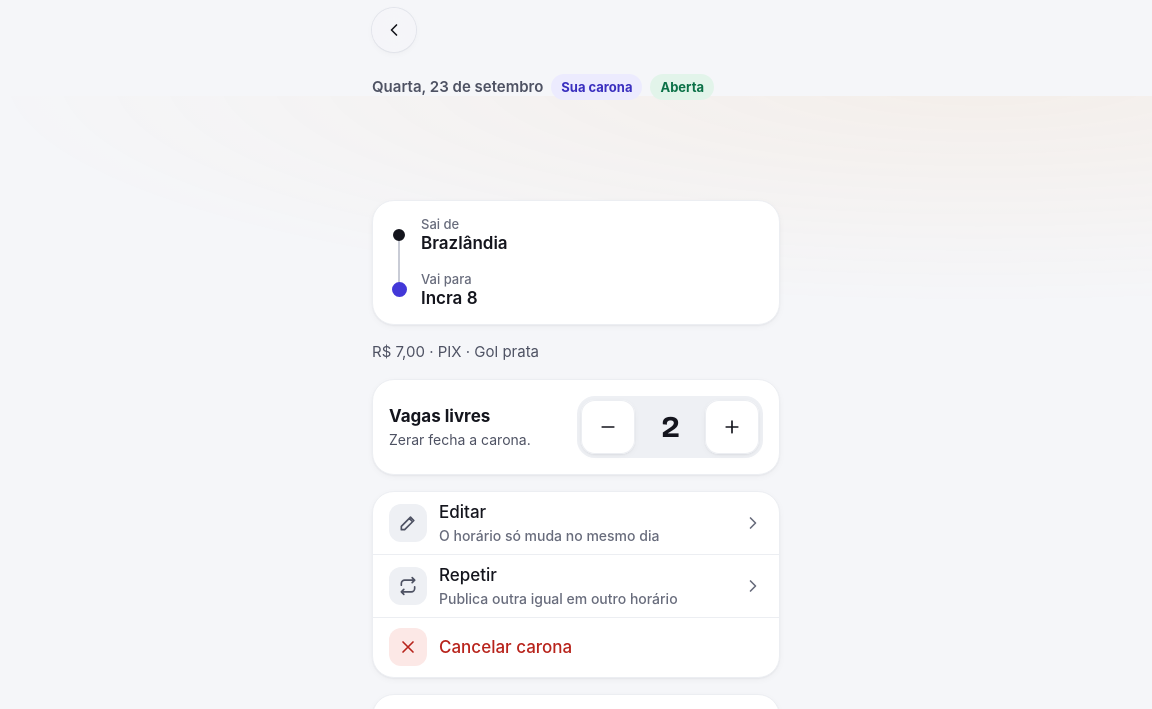
Test: RideDetail for the driver › a held account's refusal shows the phrase and a way to fix it, not a generic message (D-168)
Expected: the link named "Voltar ao mural" is shown, [372, 8, 416, 52]
Click the button named "Pôr uma vaga": click(732, 426) [705, 400, 759, 454]
(page scrolled)
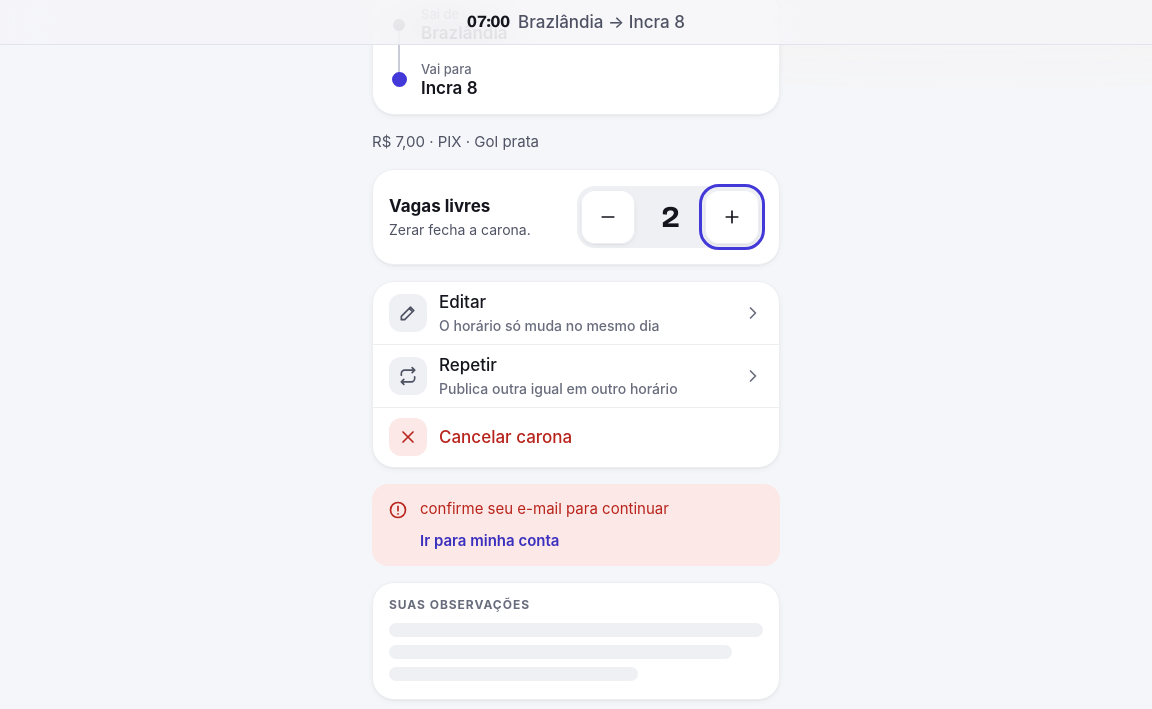
Expected: the text "confirme seu e-mail para continuar" is shown, [420, 498, 669, 518]
